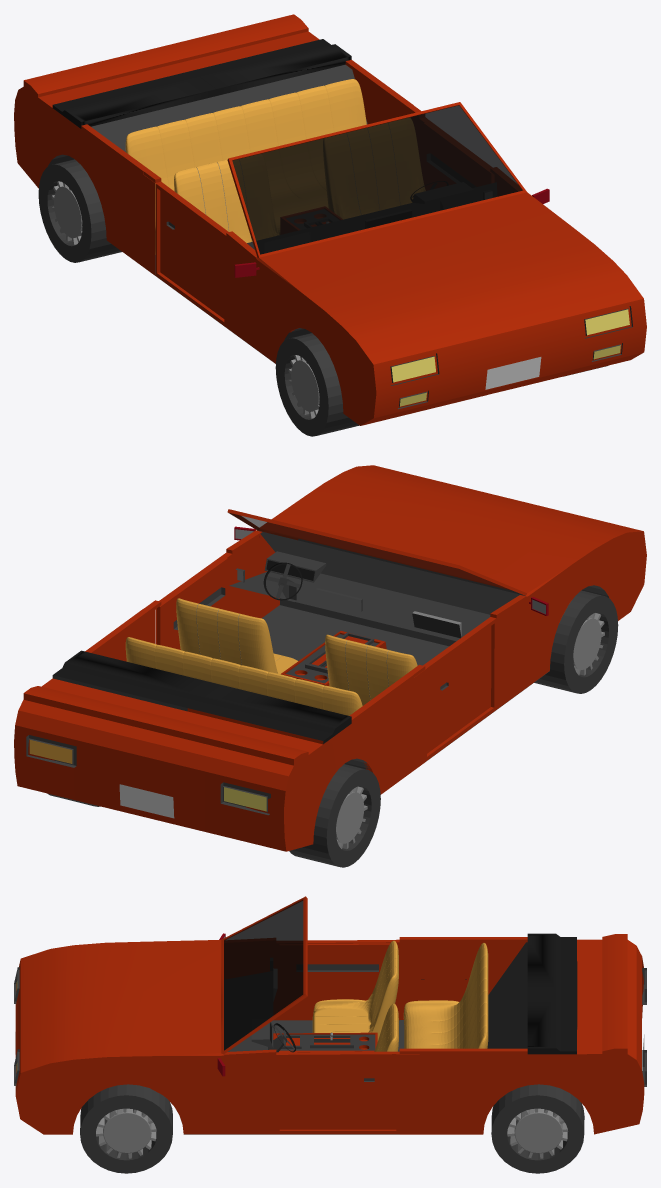
File: MainCar.fbx
The picture shows the model from 3 angles, top to bottom: view 1: azimuth 30°, elevation 25°; view 2: azimuth 150°, elevation 25°; view 3: azimuth 270°, elevation 25°; orthographic projection. The views are drawn at different scales.
Parts seen in each view (by area): view 1: MainCarBody.002, Hood.001, WindShield.001, BackSeats.001, DriverSeat.001, DoorRight.001, PassengerSeat.001, Tire.002, Tire.001, Dash.001, DoorLeft.001, Spoke.002 (+5 smaller); view 2: MainCarBody.002, Hood.001, Dash.001, DoorRight.001, BackSeats.001, DriverSeat.001, Tire.002, Tire.001, WindShield.001, PassengerSeat.001, DoorLeft.001, CenterConsole.001 (+6 smaller); view 3: MainCarBody.002, Hood.001, DoorLeft.001, WindShield.001, DoorRight.001, BackSeats.001, Tire.004, Tire.003, Dash.001, PassengerSeat.001, Spoke.004, Spoke.003 (+3 smaller).
Boxes of the visible parts, x1,y1,x2,y2 form: MainCarBody.002: (14, 14, 646, 425); Hood.001: (259, 192, 643, 364); WindShield.001: (227, 102, 526, 257); BackSeats.001: (125, 79, 366, 254); DriverSeat.001: (323, 118, 424, 218); DoorRight.001: (155, 182, 228, 327); PassengerSeat.001: (174, 154, 278, 242); Tire.002: (38, 159, 121, 262); Tire.001: (275, 333, 359, 436); Dash.001: (247, 182, 496, 253); DoorLeft.001: (422, 119, 495, 190); Spoke.002: (51, 181, 82, 244); MainCarBody.002: (14, 509, 646, 851); Hood.001: (260, 465, 643, 593); Dash.001: (229, 530, 524, 641); DoorRight.001: (423, 617, 496, 761); BackSeats.001: (125, 637, 362, 715); DriverSeat.001: (176, 598, 297, 674); Tire.002: (289, 764, 380, 867); Tire.001: (534, 590, 618, 693); WindShield.001: (227, 509, 526, 595); PassengerSeat.001: (325, 634, 417, 705); DoorLeft.001: (155, 552, 231, 649); CenterConsole.001: (281, 631, 386, 686); MainCarBody.002: (15, 910, 644, 1134); Hood.001: (20, 940, 220, 1072); DoorLeft.001: (276, 1051, 399, 1134); WindShield.001: (221, 896, 307, 1054); DoorRight.001: (276, 940, 399, 1022); BackSeats.001: (403, 943, 488, 1048); Tire.004: (491, 1084, 584, 1173); Tire.003: (80, 1084, 172, 1173); Dash.001: (224, 958, 276, 1051); PassengerSeat.001: (312, 940, 398, 1041); Spoke.004: (507, 1108, 568, 1158); Spoke.003: (96, 1108, 156, 1158).
Size of the model in its own units: 191 by 112 by 385.
